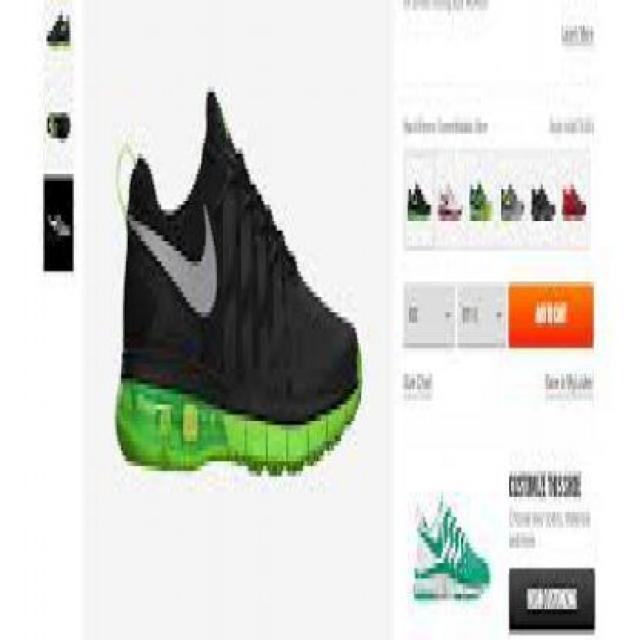Nike: (126, 194, 215, 328)
